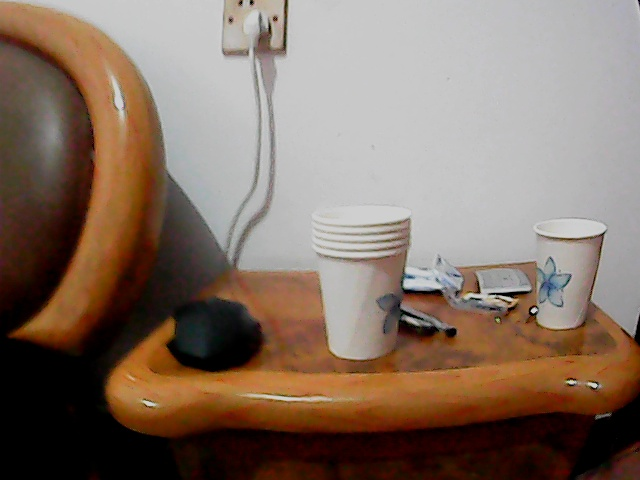cup: (306, 205, 413, 361)
mouse: (160, 293, 262, 370)
